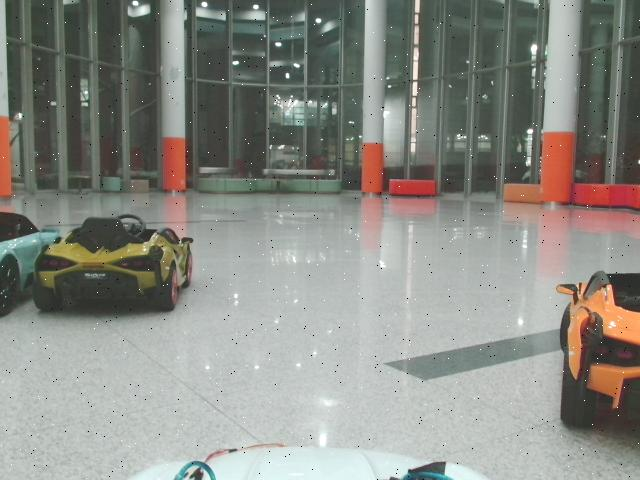car: (34, 215, 194, 312), (557, 270, 640, 431), (1, 211, 61, 319)
